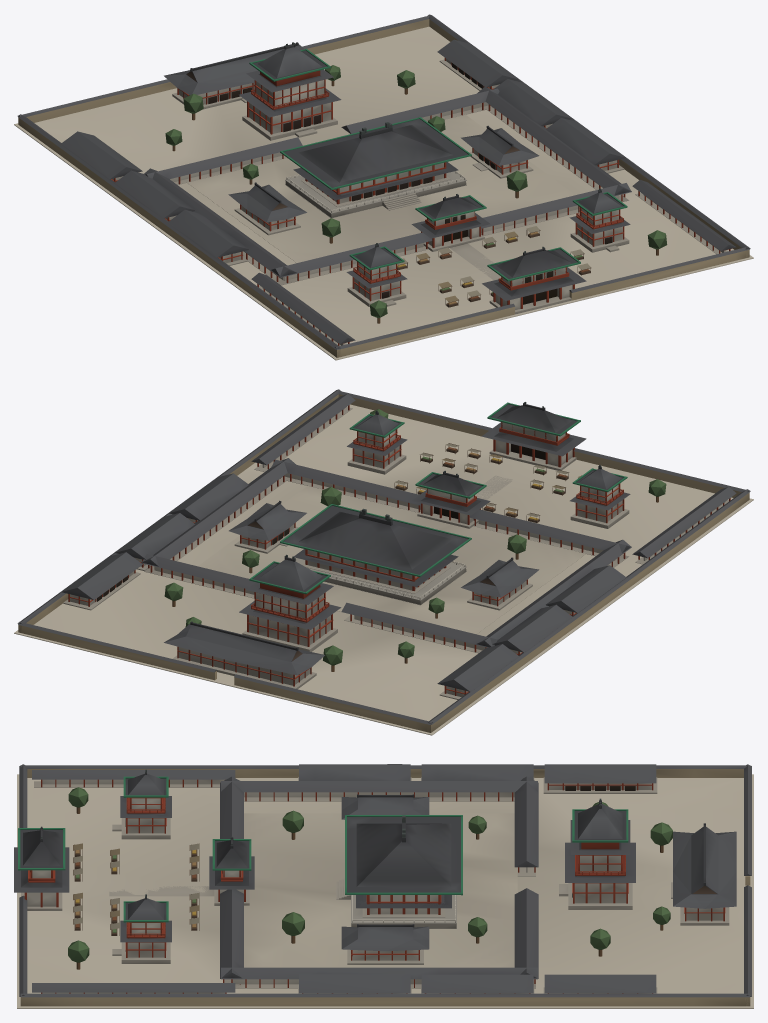
File: xiangguo-temple.glb
The picture shows the model from 3 angles, top to bottom: view 1: azimuth 30°, elevation 25°; view 2: azimuth 150°, elevation 25°; view 3: azimuth 270°, elevation 25°; orthographic projection. The views are drawn at different scales.
Visible parts, largest first — view 1: p0_terraces, p2_trees, p1_halls; view 2: p0_terraces, p2_trees, p1_halls; view 3: p0_terraces, p2_trees, p1_halls.
Part boxes in pixels (x1,y1,x2,y2): p0_terraces: (14, 14, 753, 360); p2_trees: (61, 39, 667, 323); p1_halls: (111, 58, 629, 314); p0_terraces: (14, 389, 753, 735); p2_trees: (61, 402, 666, 691); p1_halls: (63, 422, 629, 699); p0_terraces: (17, 764, 753, 1008); p2_trees: (14, 764, 736, 993); p1_halls: (21, 777, 729, 993).
Size of the model in its own units: 180 by 32.88 by 241.
